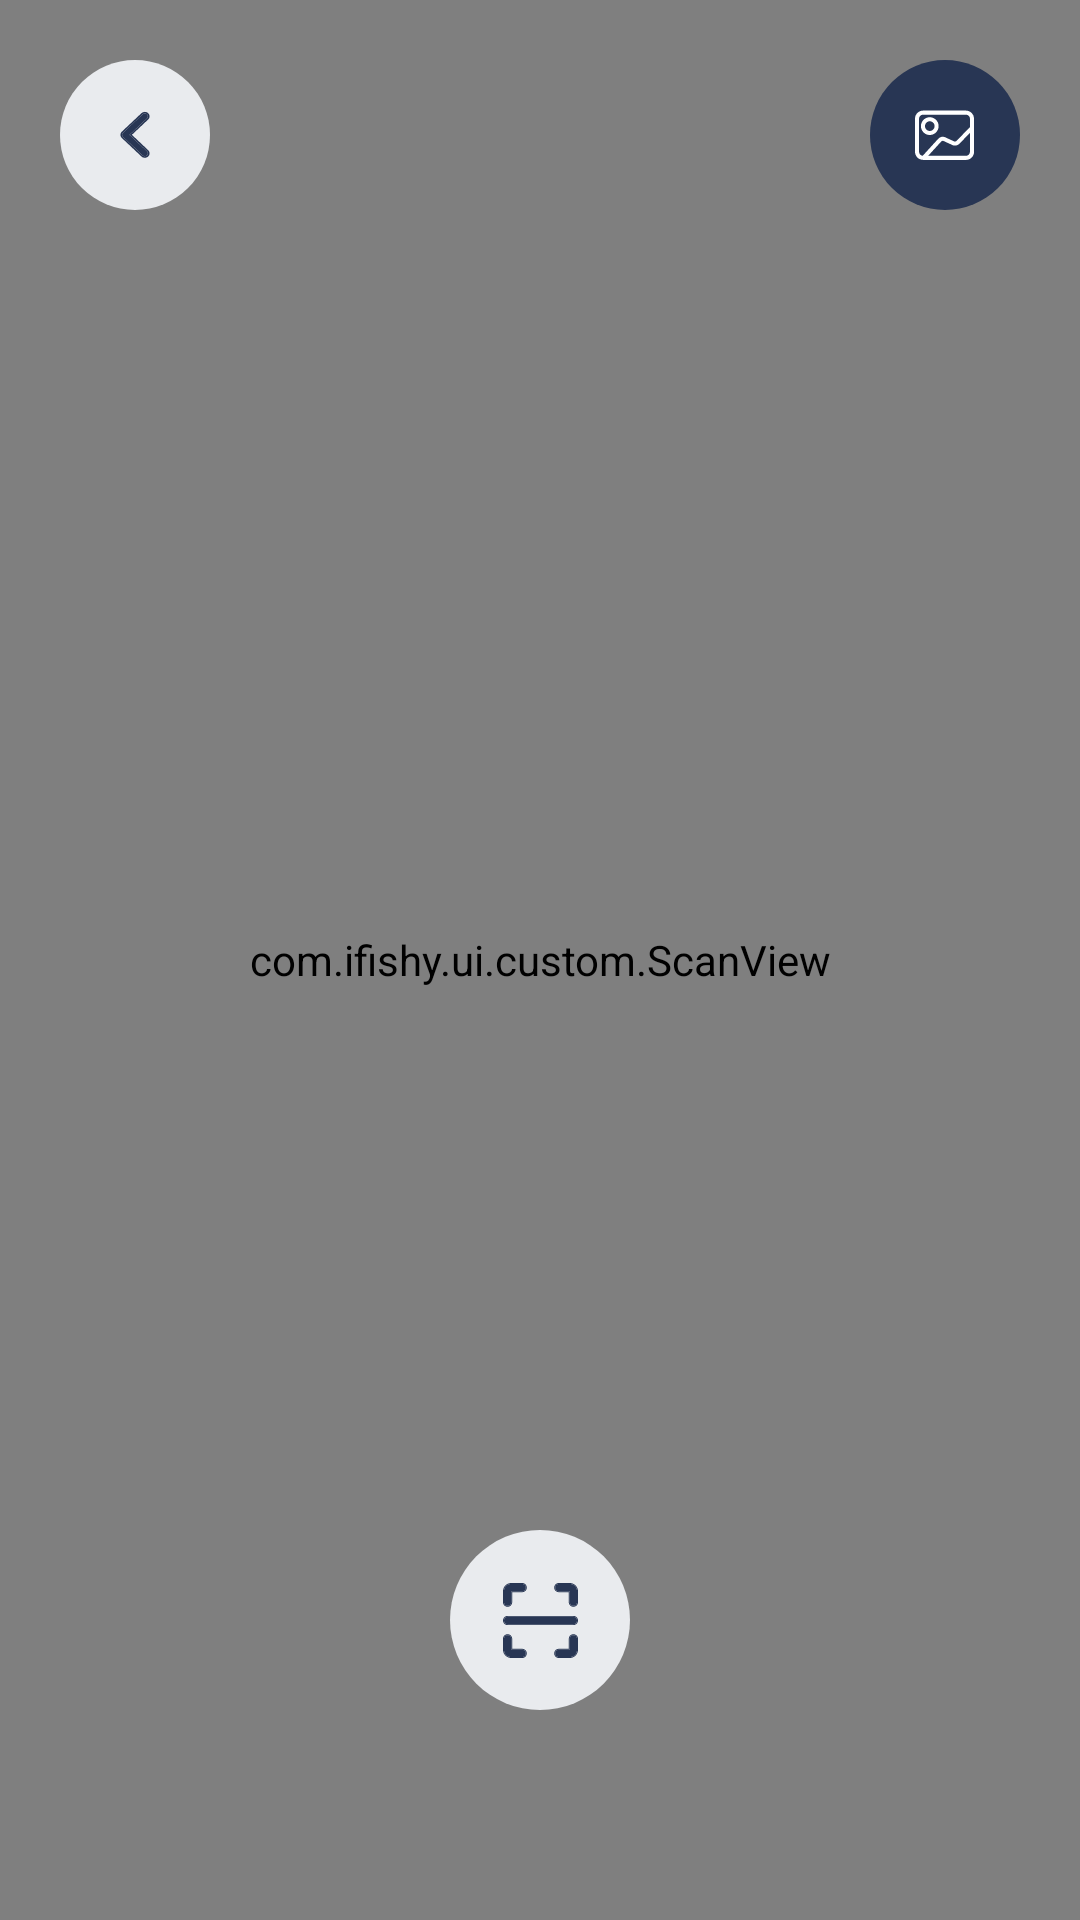

Where to tap for icons on this 1080 x 1920 app screen, as point (x, y):
back: point (135, 135)
upload gallery: point (945, 135)
